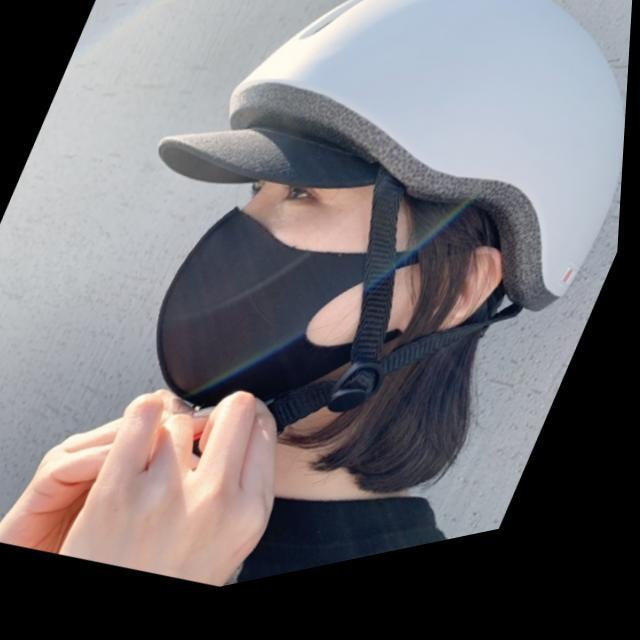Helmet: (148, 0, 616, 457)
